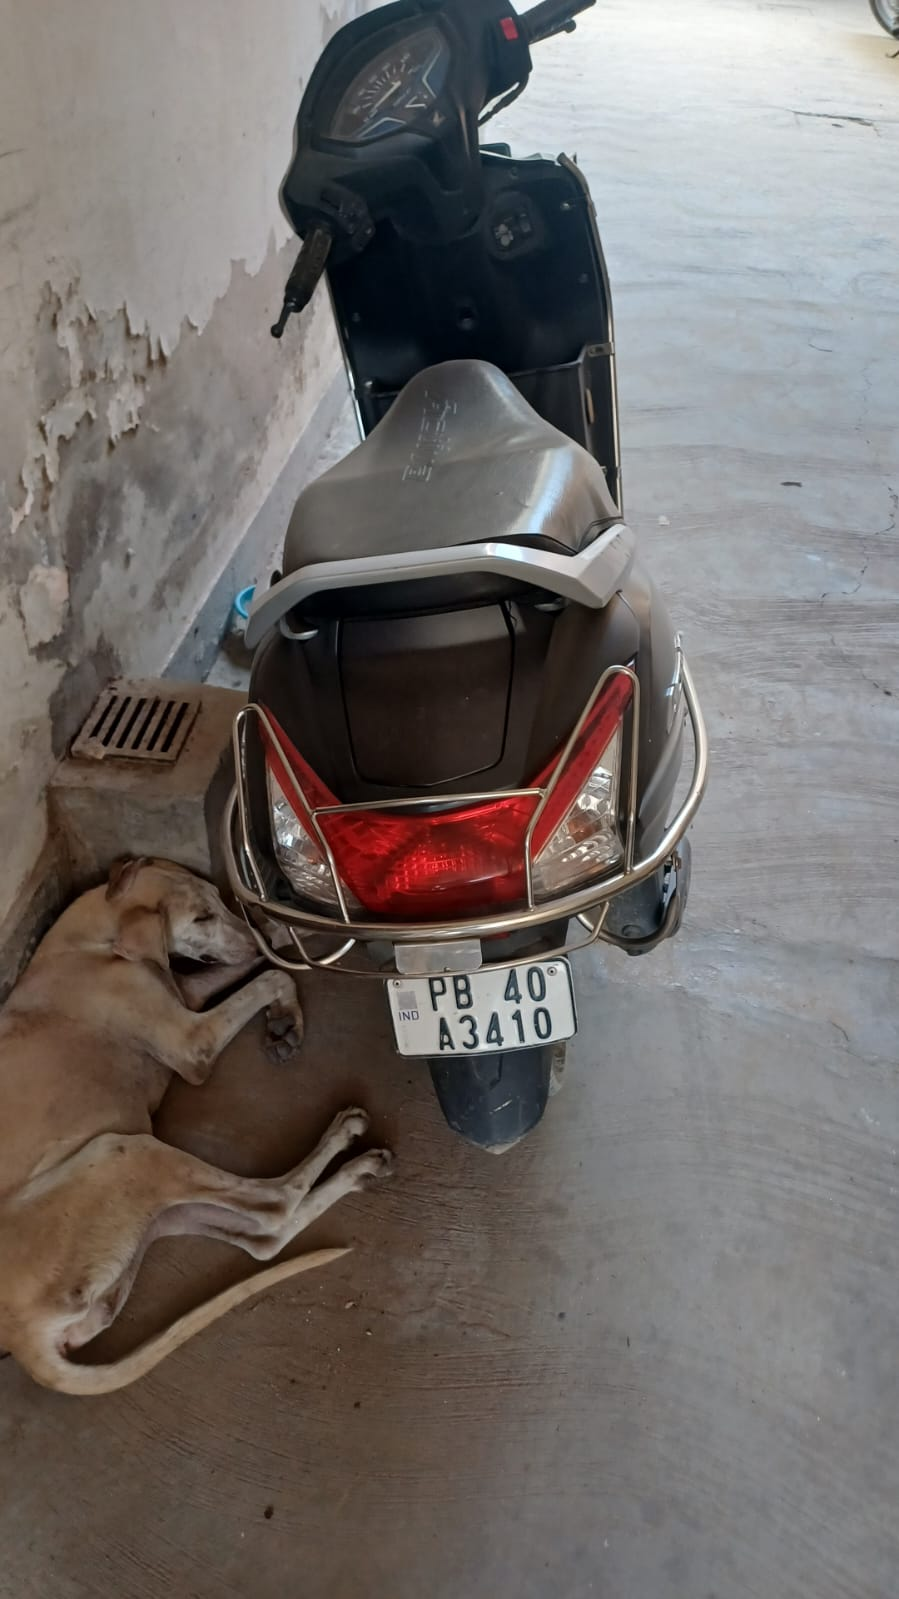license plate: (387, 959, 575, 1056)
